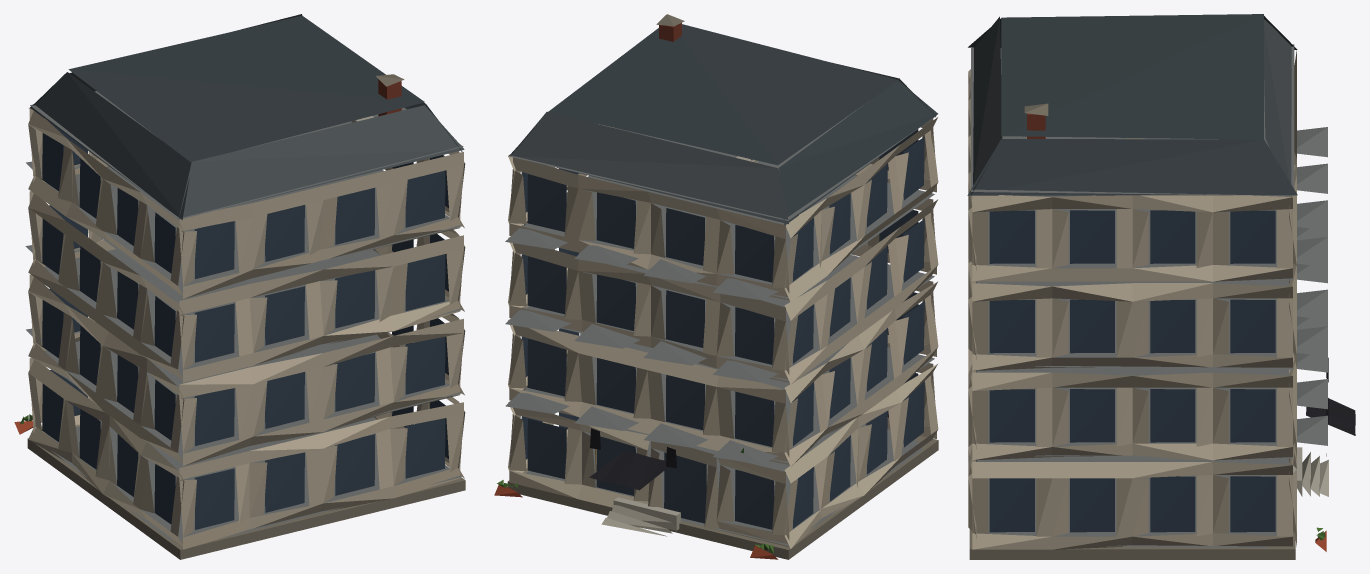
Rendered from hotel.glb.
3 renders of one model, left to right at view 1: azimuth 30°, elevation 25°; view 2: azimuth 150°, elevation 25°; view 3: azimuth 270°, elevation 25°, orthographic. The views are drawn at different scales.
Bounding box in the file's own units: 7.36 × 9.81 × 8.05.
